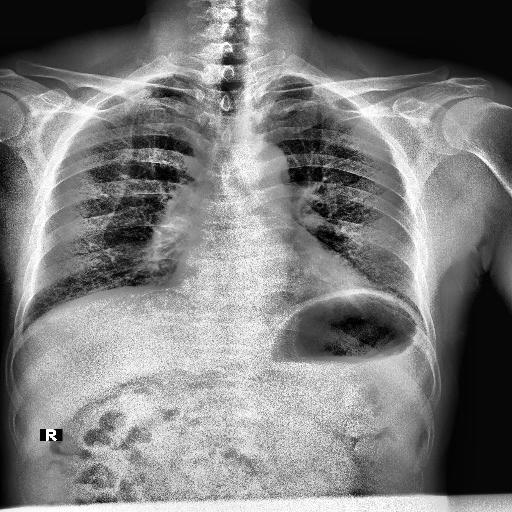0- Aortic enlargement: (230, 138, 292, 196), (230, 136, 290, 186), (236, 142, 286, 176)
5- ILD: (62, 178, 159, 300), (325, 178, 417, 290)
